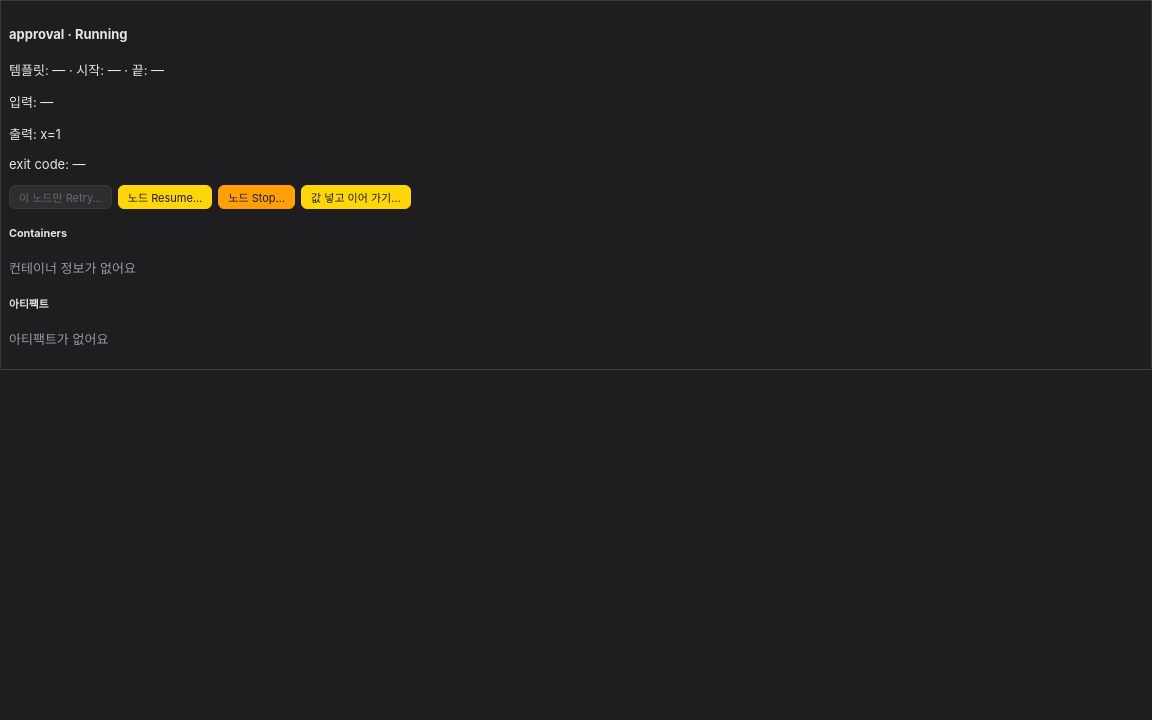
Test: setOutputs가 실패하면 resume은 보내지 않는다
Click the button "값 넣고 이어 가기…" at coordinates (356, 197), box [301,185,411,209]
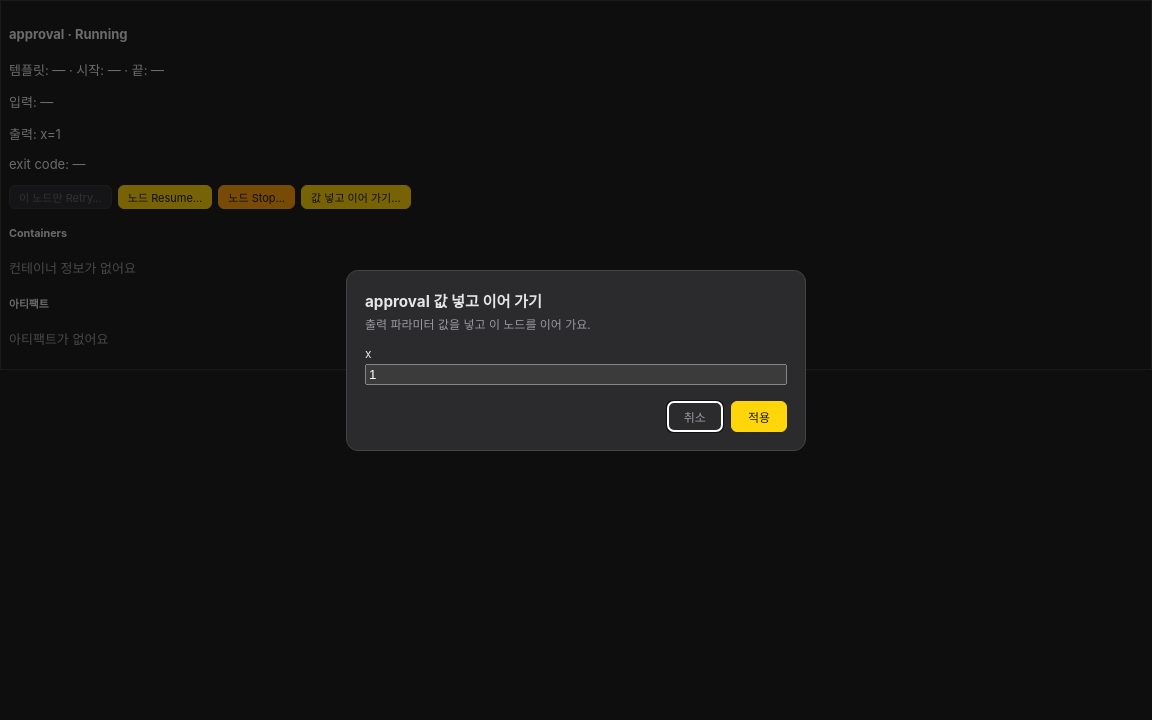
Click the button "적용" at coordinates (759, 416), box [731,400,787,432]
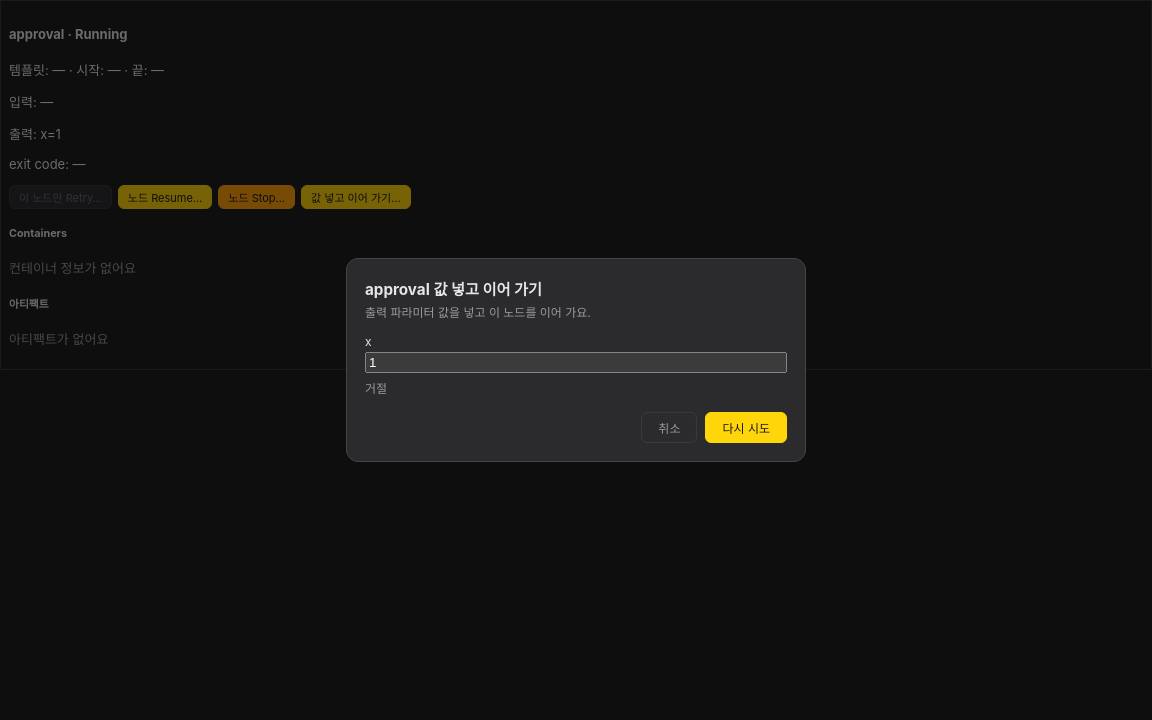
Now the text "거절" is shown, box [365,381,387,396]
